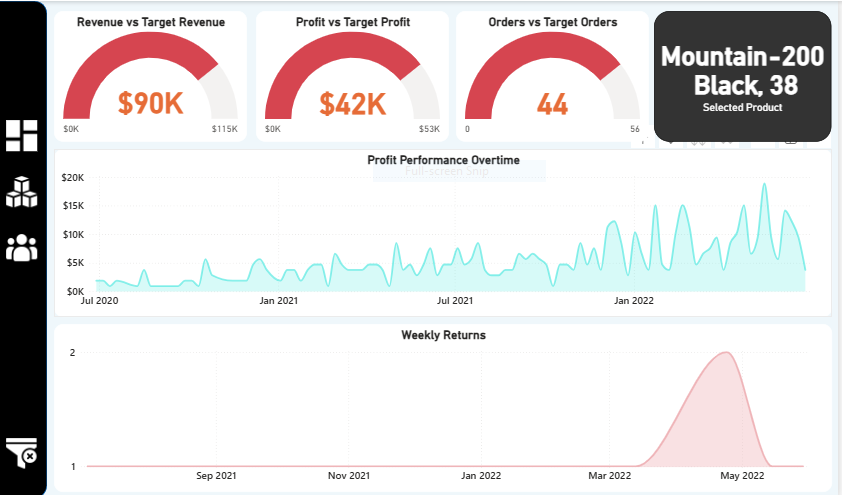

Layout of this report page (visuals, bound fields, positions):
{"tool":"powerbi","page":{"name":"Product Level","canvas":[1350,800],"ordinal":1},"visuals":[{"type":"areaChart","title":"Profit Performance Overtime","fields":{"Category":["dim_Calendar.Year","dim_Calendar.Start of Quarter","dim_Calendar.Start of Month","dim_Calendar.Start of Week"],"Y":["Measures_Table.Total Profit"]},"box":[90,237.8,1250,269.9],"z":0},{"type":"shape","box":[0,0,78.7,798.4],"z":1000},{"type":"gauge","title":"Revenue vs Target Revenue","fields":{"Y":["Measures_Table.Total Revenue"],"MaxValue":["Measures_Table.Target Revenue"]},"box":[90,16.7,310,210],"z":2000,"group":"g1"},{"type":"areaChart","title":"Weekly Returns","fields":{"Category":["dim_Calendar.Start of Week"],"Y":["Measures_Table.Total Returns"]},"box":[90,518.9,1250,269.9],"z":2000},{"type":"gauge","title":"Profit vs Target Profit","fields":{"Y":["Measures_Table.Total Profit"],"MaxValue":["Measures_Table.Target Profit"]},"box":[414.5,16.7,310,210.4],"z":3000,"group":"g1"},{"type":"group","id":"g1","title":"Group 1","box":[90,16.7,1248.9,210.4],"z":3000},{"type":"gauge","title":"Orders vs Target Orders","fields":{"Y":["Measures_Table.Total Orders"],"MaxValue":["Measures_Table.Target Orders"]},"box":[735.8,16.7,310,210.4],"z":4000,"group":"g1"},{"type":"image","box":[8.7,186.2,60,60],"z":4000},{"type":"card","fields":{"Values":["Min(dim_Products.ProductName)"]},"box":[1053.9,16.7,285,210.4],"z":5000,"group":"g1"},{"type":"image","box":[8.4,276.9,60,60],"z":5000},{"type":"image","box":[8.7,366.1,60,60],"z":6000},{"type":"image","box":[8,697.2,59.4,59.4],"z":7000}]}

Visuals, with their boxes on the page's 1350x800 design canvas (x1, y1, x2, y2). These are canvas units, not pixel positions in the 842x495 screenshot, which may show the page scaled, cropped or inside an application window:
"Profit Performance Overtime" areaChart: locate(90, 238, 1340, 508)
shape: locate(0, 0, 79, 798)
"Revenue vs Target Revenue" gauge: locate(90, 17, 400, 227)
"Weekly Returns" areaChart: locate(90, 519, 1340, 789)
"Profit vs Target Profit" gauge: locate(414, 17, 724, 227)
"Group 1" group: locate(90, 17, 1339, 227)
"Orders vs Target Orders" gauge: locate(736, 17, 1046, 227)
image: locate(9, 186, 69, 246)
card - Min(dim_Products.ProductName): locate(1054, 17, 1339, 227)
image: locate(8, 277, 68, 337)
image: locate(9, 366, 69, 426)
image: locate(8, 697, 67, 757)
